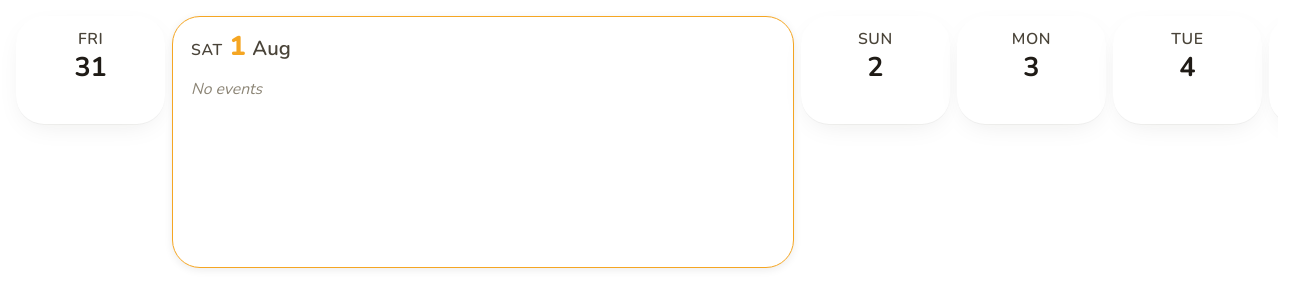
Scenario: DayCarousel › shows "Back to Today" pill after navigating away from today
The image size is (1290, 308).
Click the button "Fri 31": (91, 70) [16, 16, 165, 124]
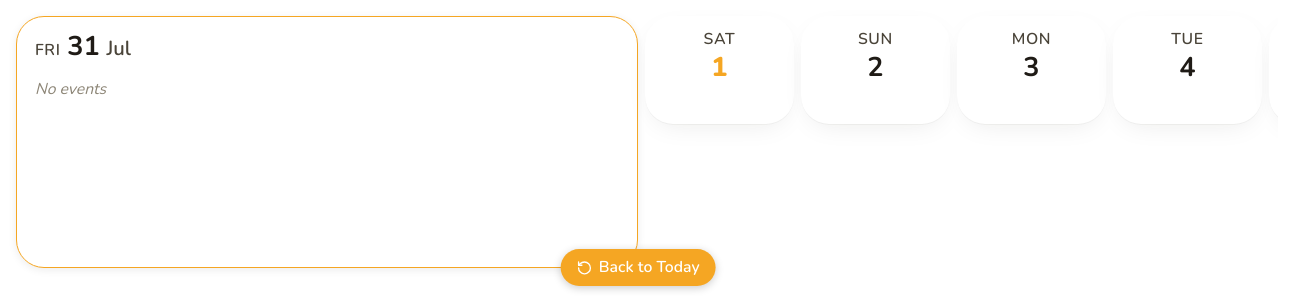
Expected: the button with test id "back-to-today" is shown, [561, 249, 715, 286]
